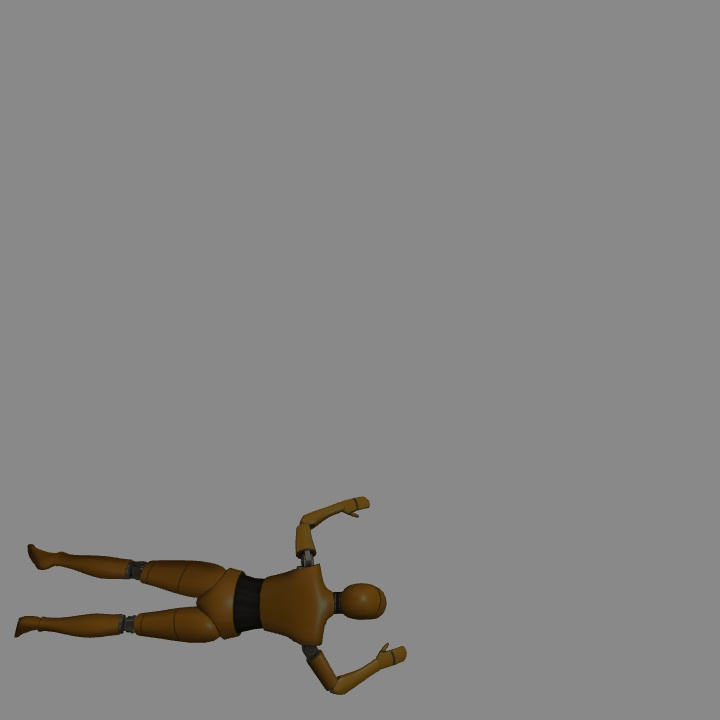victim: (27, 500, 404, 679)
